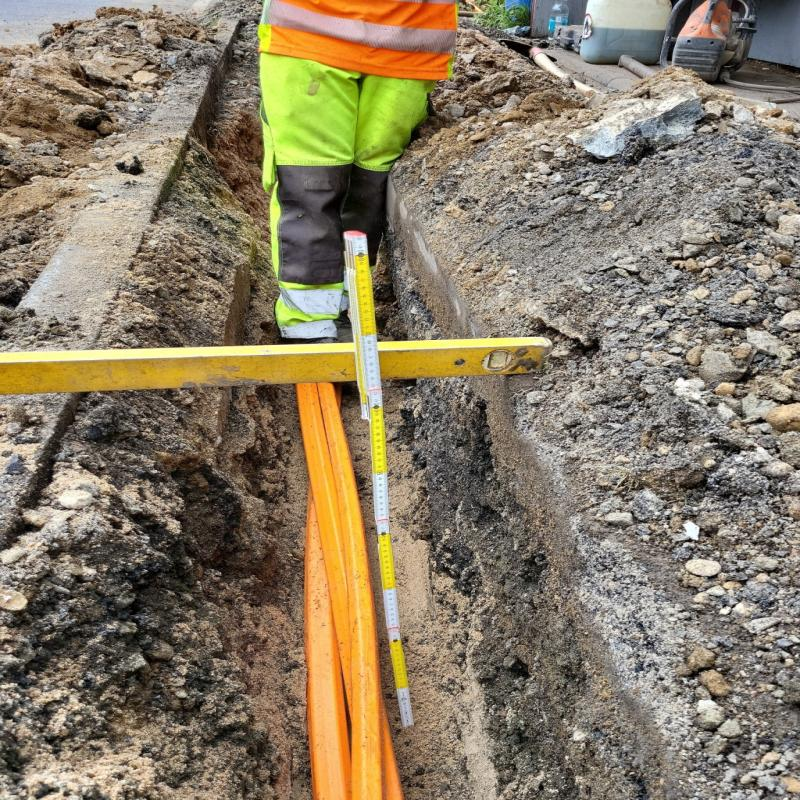Orang-Speednetrohrchen: (294, 386, 402, 800)
